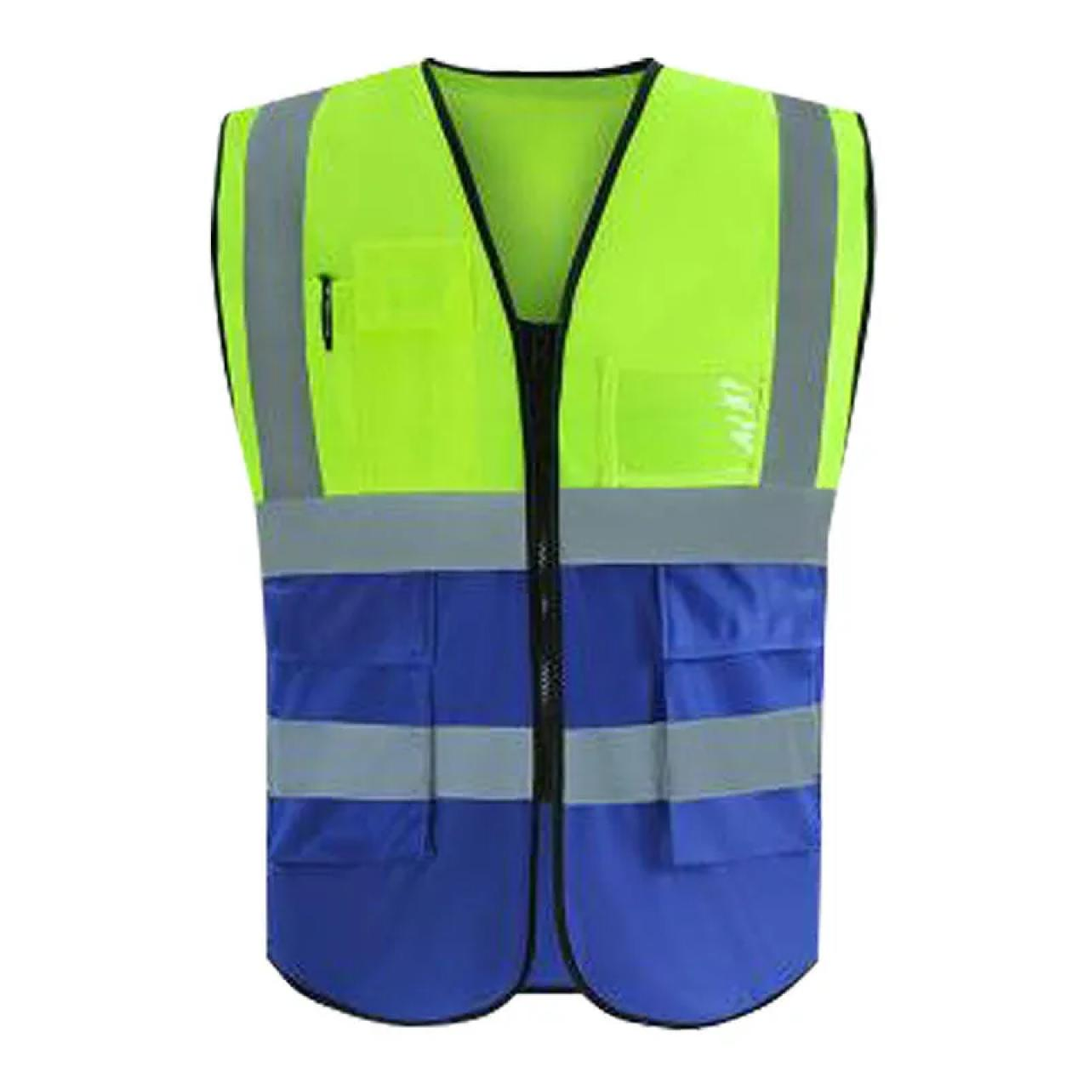Safety_Vest: (192, 40, 885, 1031)
